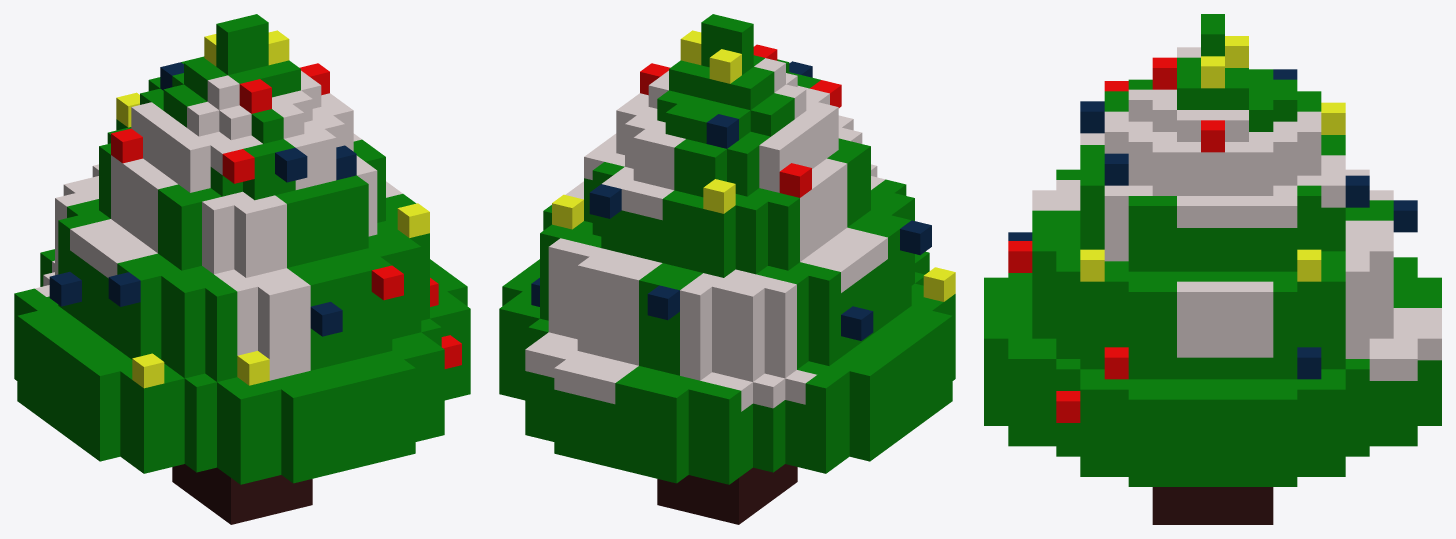
File: pine.obj
3 renders of one model, left to right at view 1: azimuth 30°, elevation 25°; view 2: azimuth 150°, elevation 25°; view 3: azimuth 270°, elevation 25°, orthographic. The views are drawn at different scales.
Bounding box in the file's own units: 1.8 × 2.2 × 1.9.
1 material, 1 textured.
